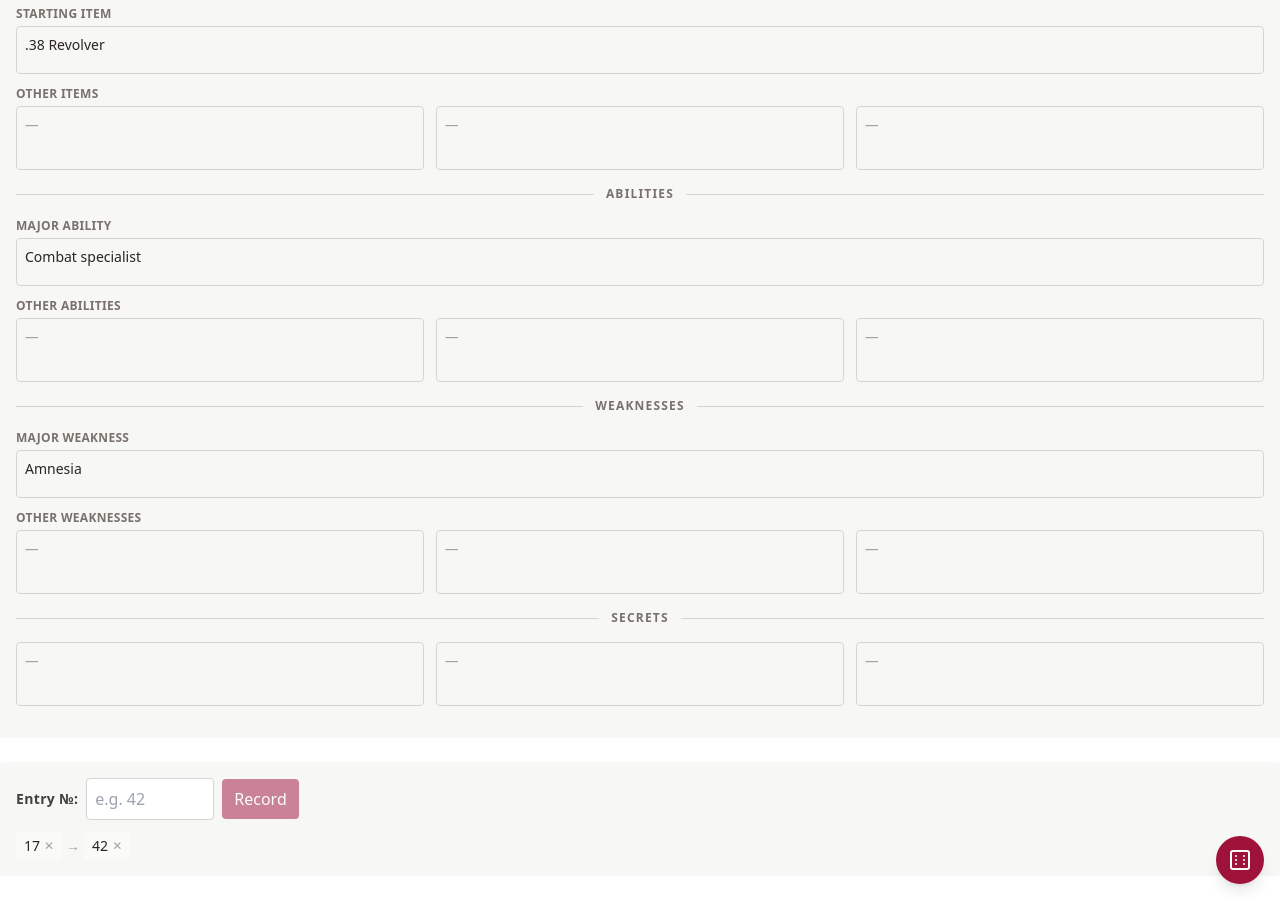
Test: InvestigatorApp › Entry Management › adds a new entry when Record is clicked
(page scrolled)
Type "99" into the number field with placeholder "e.g. 42".
click(150, 799); type("99")  # box 86,778 -> 214,820
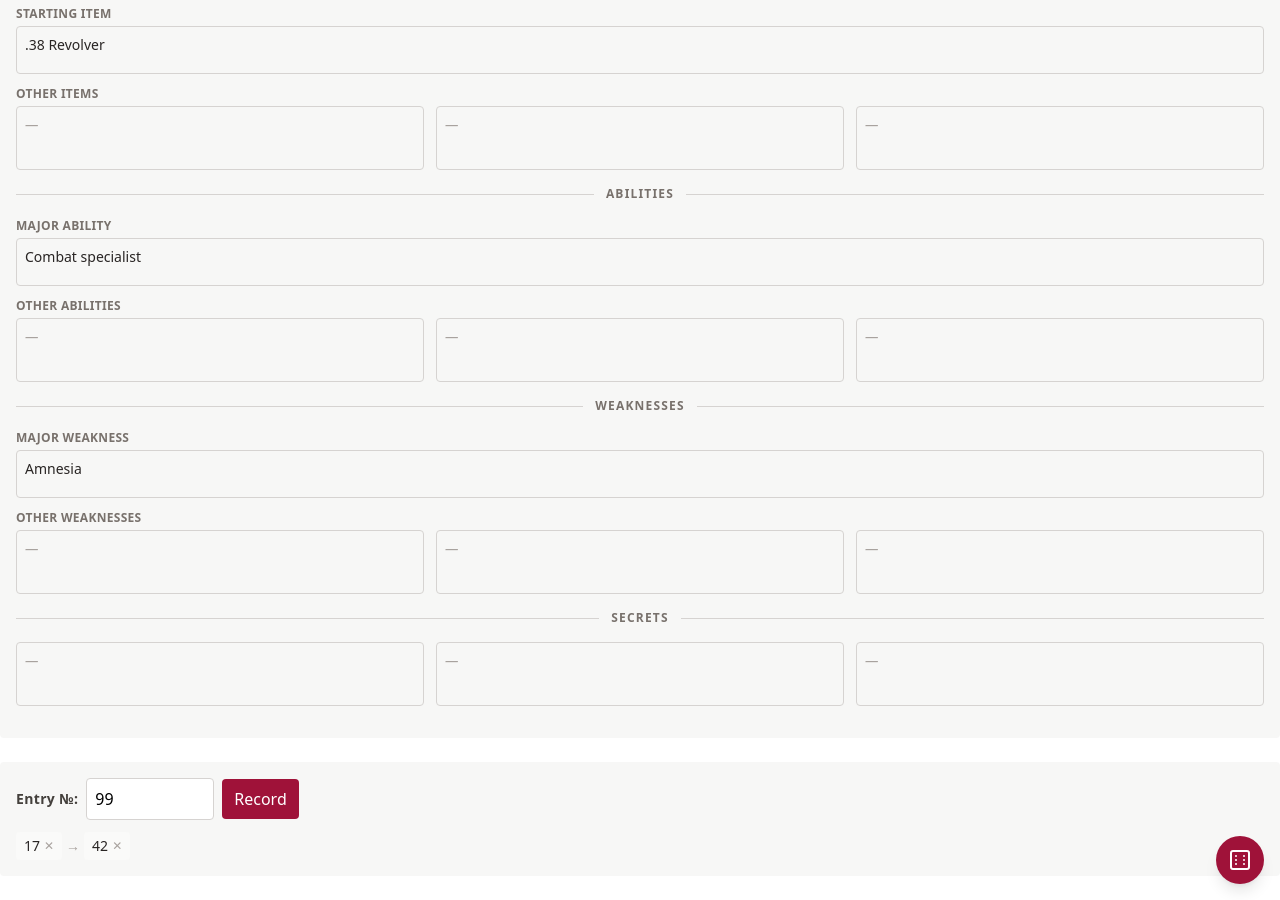
Click the button "Record".
click(261, 799)  # box 222,779 -> 299,819
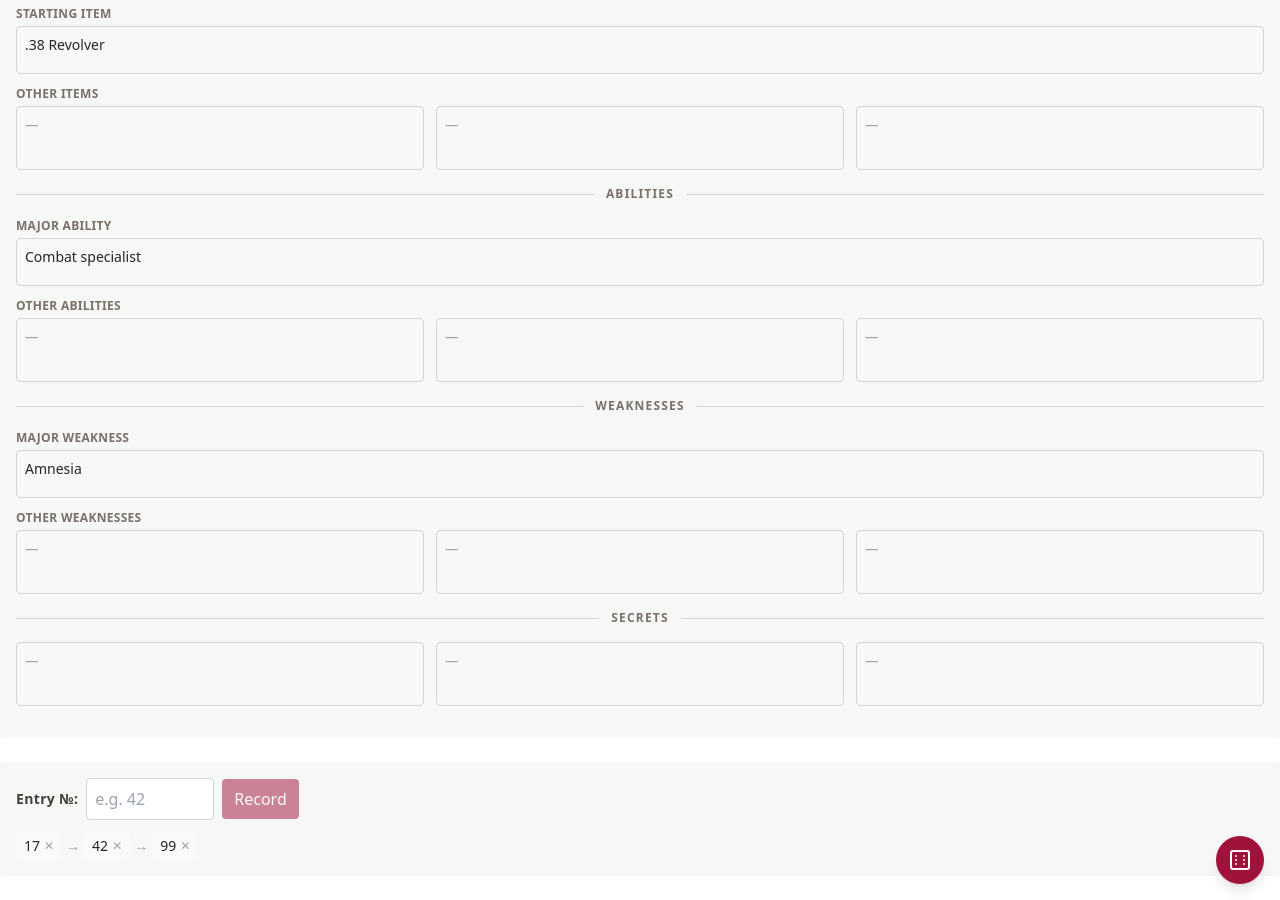
Result: the text "99" is shown at 160,836 -> 176,856
